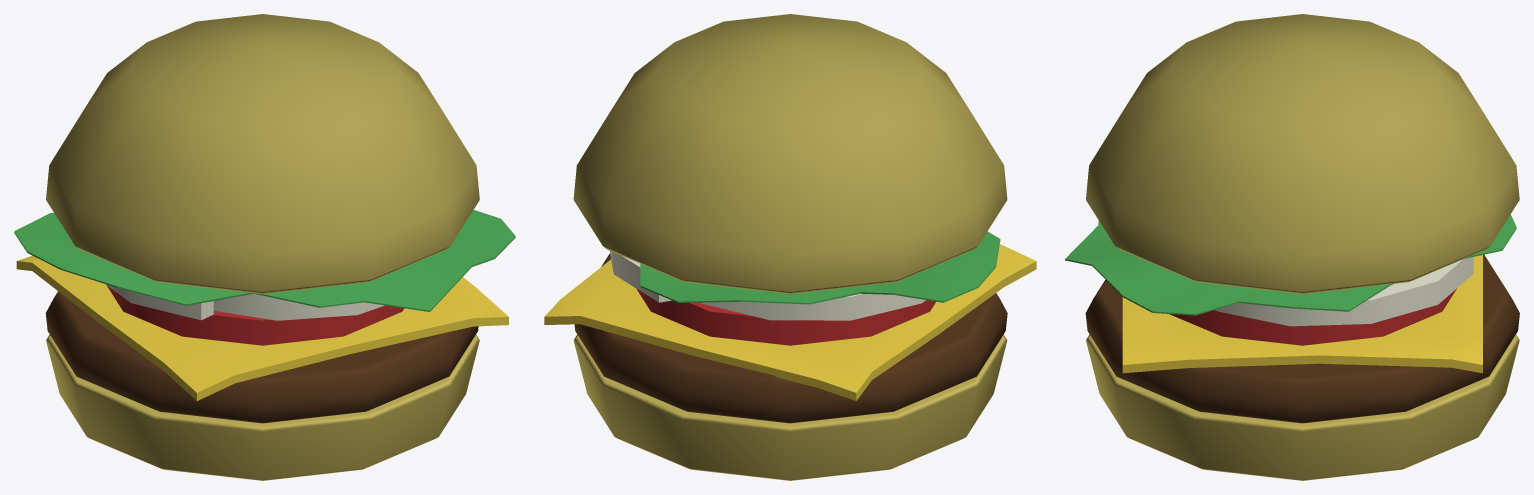
The model's file is BurgerAgain.fbx.
The picture shows the model from 3 angles, left to right: view 1: azimuth 30°, elevation 25°; view 2: azimuth 150°, elevation 25°; view 3: azimuth 270°, elevation 25°; orthographic projection.
Visible parts, largest first — view 1: TopBun, BottomBun, Patty, Cheese, Lettuce, Tomato, pPipe8, pPipe7; view 2: TopBun, BottomBun, Patty, Cheese, Lettuce, Tomato, pPipe7, pPipe2; view 3: TopBun, BottomBun, Patty, Cheese, Lettuce, pPipe2, Tomato.
Part boxes in pixels (bbox=[...]): TopBun: bbox=[46, 14, 479, 294]; BottomBun: bbox=[46, 334, 479, 480]; Patty: bbox=[45, 291, 478, 423]; Cheese: bbox=[16, 255, 508, 400]; Lettuce: bbox=[14, 210, 515, 311]; Tomato: bbox=[106, 285, 404, 345]; pPipe8: bbox=[213, 294, 384, 320]; pPipe7: bbox=[105, 284, 213, 320]; TopBun: bbox=[573, 14, 1007, 294]; BottomBun: bbox=[573, 334, 1007, 480]; Patty: bbox=[574, 254, 1007, 423]; Cheese: bbox=[544, 244, 1036, 400]; Lettuce: bbox=[640, 231, 1000, 304]; Tomato: bbox=[637, 289, 935, 345]; pPipe7: bbox=[701, 293, 925, 320]; pPipe2: bbox=[609, 251, 671, 302]; TopBun: bbox=[1086, 14, 1519, 294]; BottomBun: bbox=[1086, 334, 1519, 480]; Patty: bbox=[1085, 254, 1519, 423]; Cheese: bbox=[1122, 255, 1482, 373]; Lettuce: bbox=[1065, 214, 1516, 315]; pPipe2: bbox=[1215, 257, 1473, 326]; Tomato: bbox=[1169, 288, 1456, 345].
Bounding box in the file's own units: 0.886 × 0.7473 × 0.8733.
